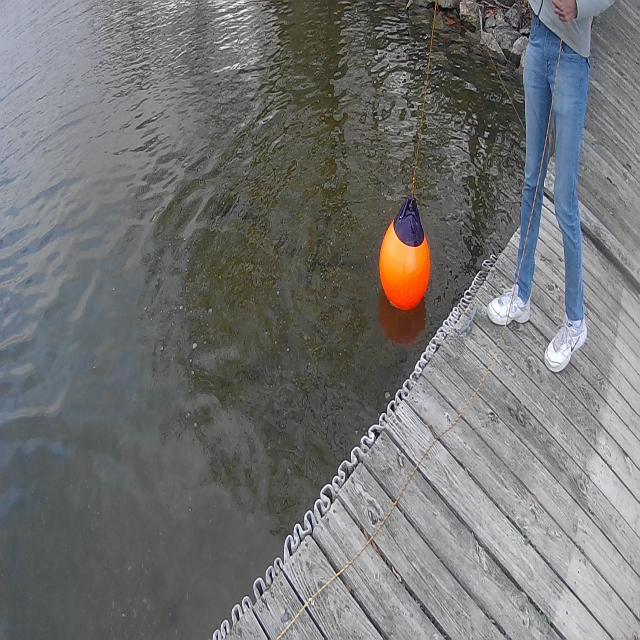Buoy: (375, 191, 433, 317)
